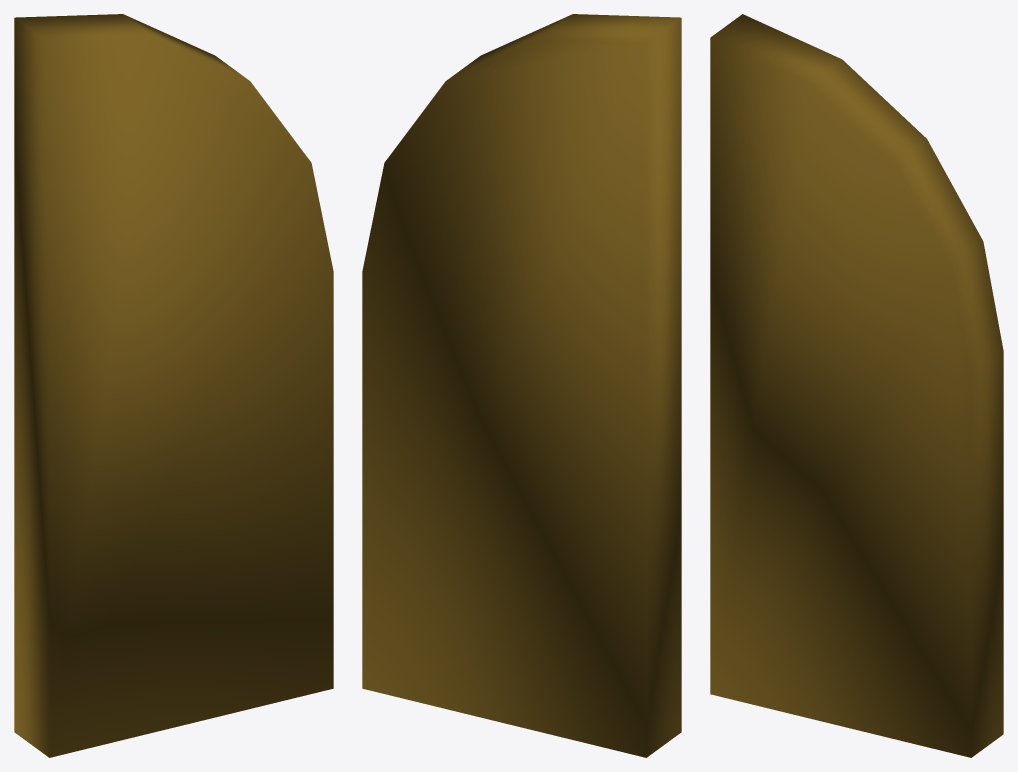
The model's file is door_left.glb.
3 renders of one model, left to right at view 1: azimuth 30°, elevation 25°; view 2: azimuth 150°, elevation 25°; view 3: azimuth 330°, elevation 25°, orthographic. The views are drawn at different scales.
Visible parts, largest first — view 1: door left; view 2: door left; view 3: door left.
Boxes of the visible parts, left/top/right/bottom form: door left: left=14, top=14, right=333, bottom=757; door left: left=362, top=14, right=681, bottom=757; door left: left=710, top=14, right=1003, bottom=757.
Bounding box in the file's own units: 1.55 × 3.73 × 0.331.
